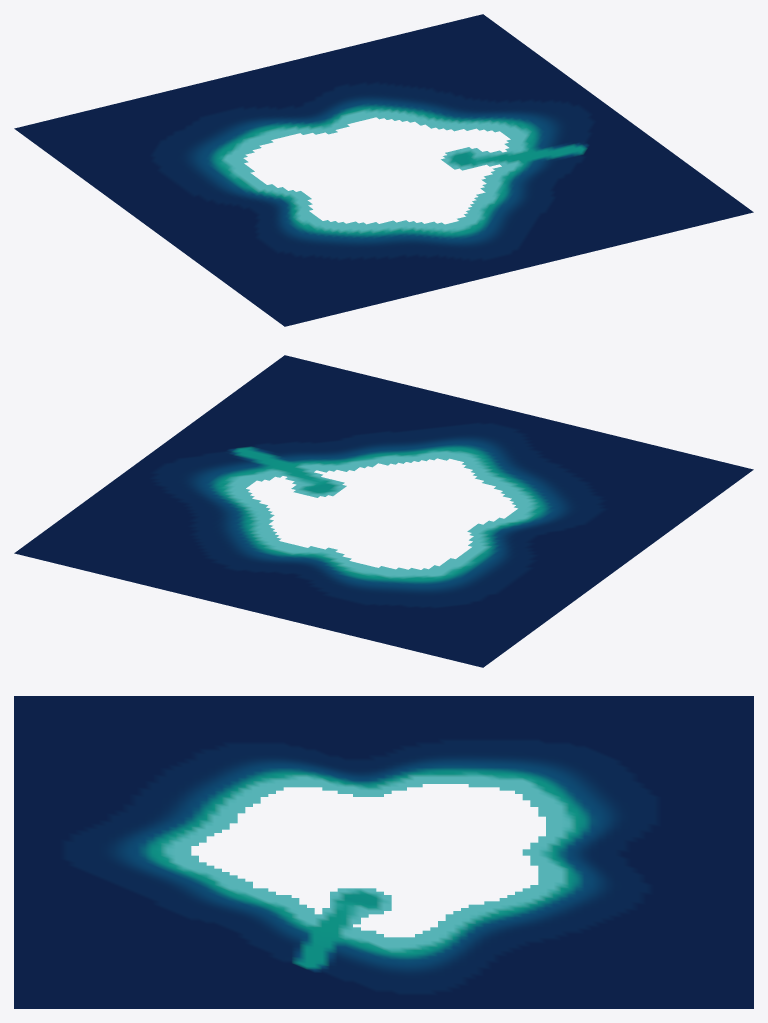
Rendered from Water_Ocean.001.fbx.
The picture shows the model from 3 angles, top to bottom: view 1: azimuth 30°, elevation 25°; view 2: azimuth 150°, elevation 25°; view 3: azimuth 270°, elevation 25°; orthographic projection. The views are drawn at different scales.
Visible parts, largest first — view 1: Water_Ocean.001; view 2: Water_Ocean.001; view 3: Water_Ocean.001.
Boxes of the visible parts, box(x1,y1,x2,y2) form: Water_Ocean.001: box(14, 14, 753, 326); Water_Ocean.001: box(14, 355, 753, 667); Water_Ocean.001: box(14, 696, 753, 1008).
Bounding box in the file's own units: 96 × 0 × 96.
